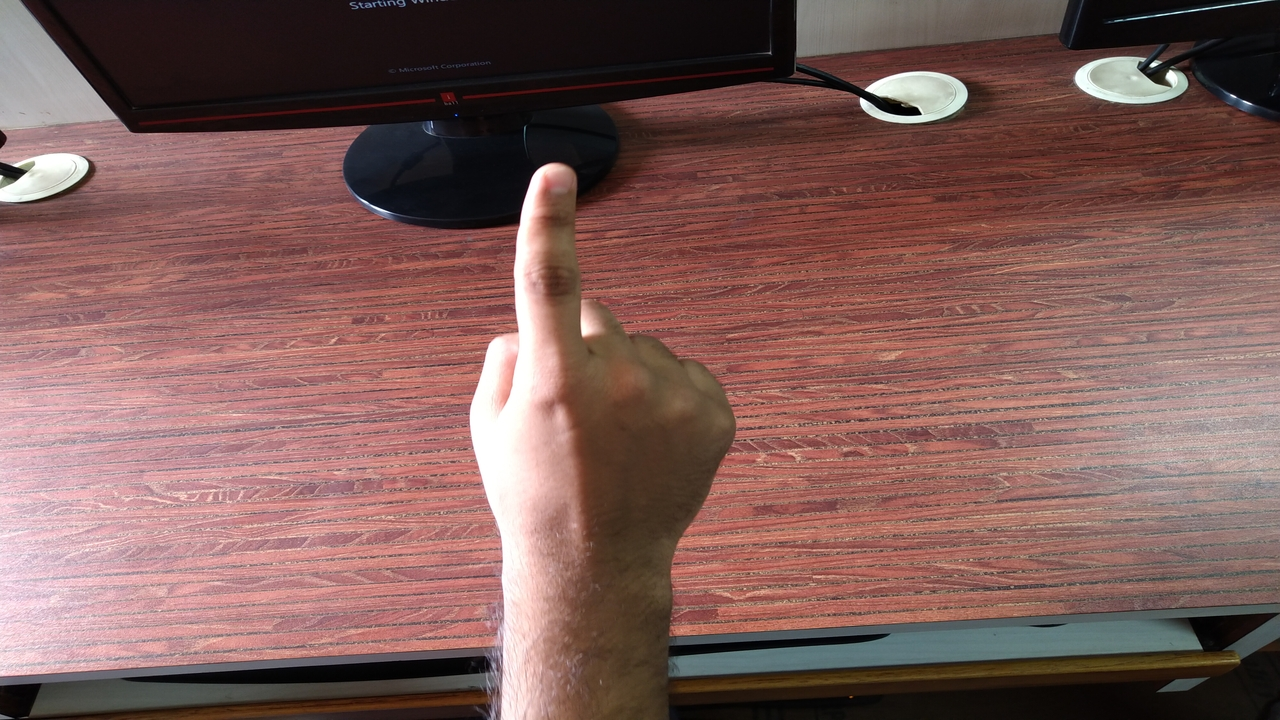fingertip: (516, 152, 582, 210)
